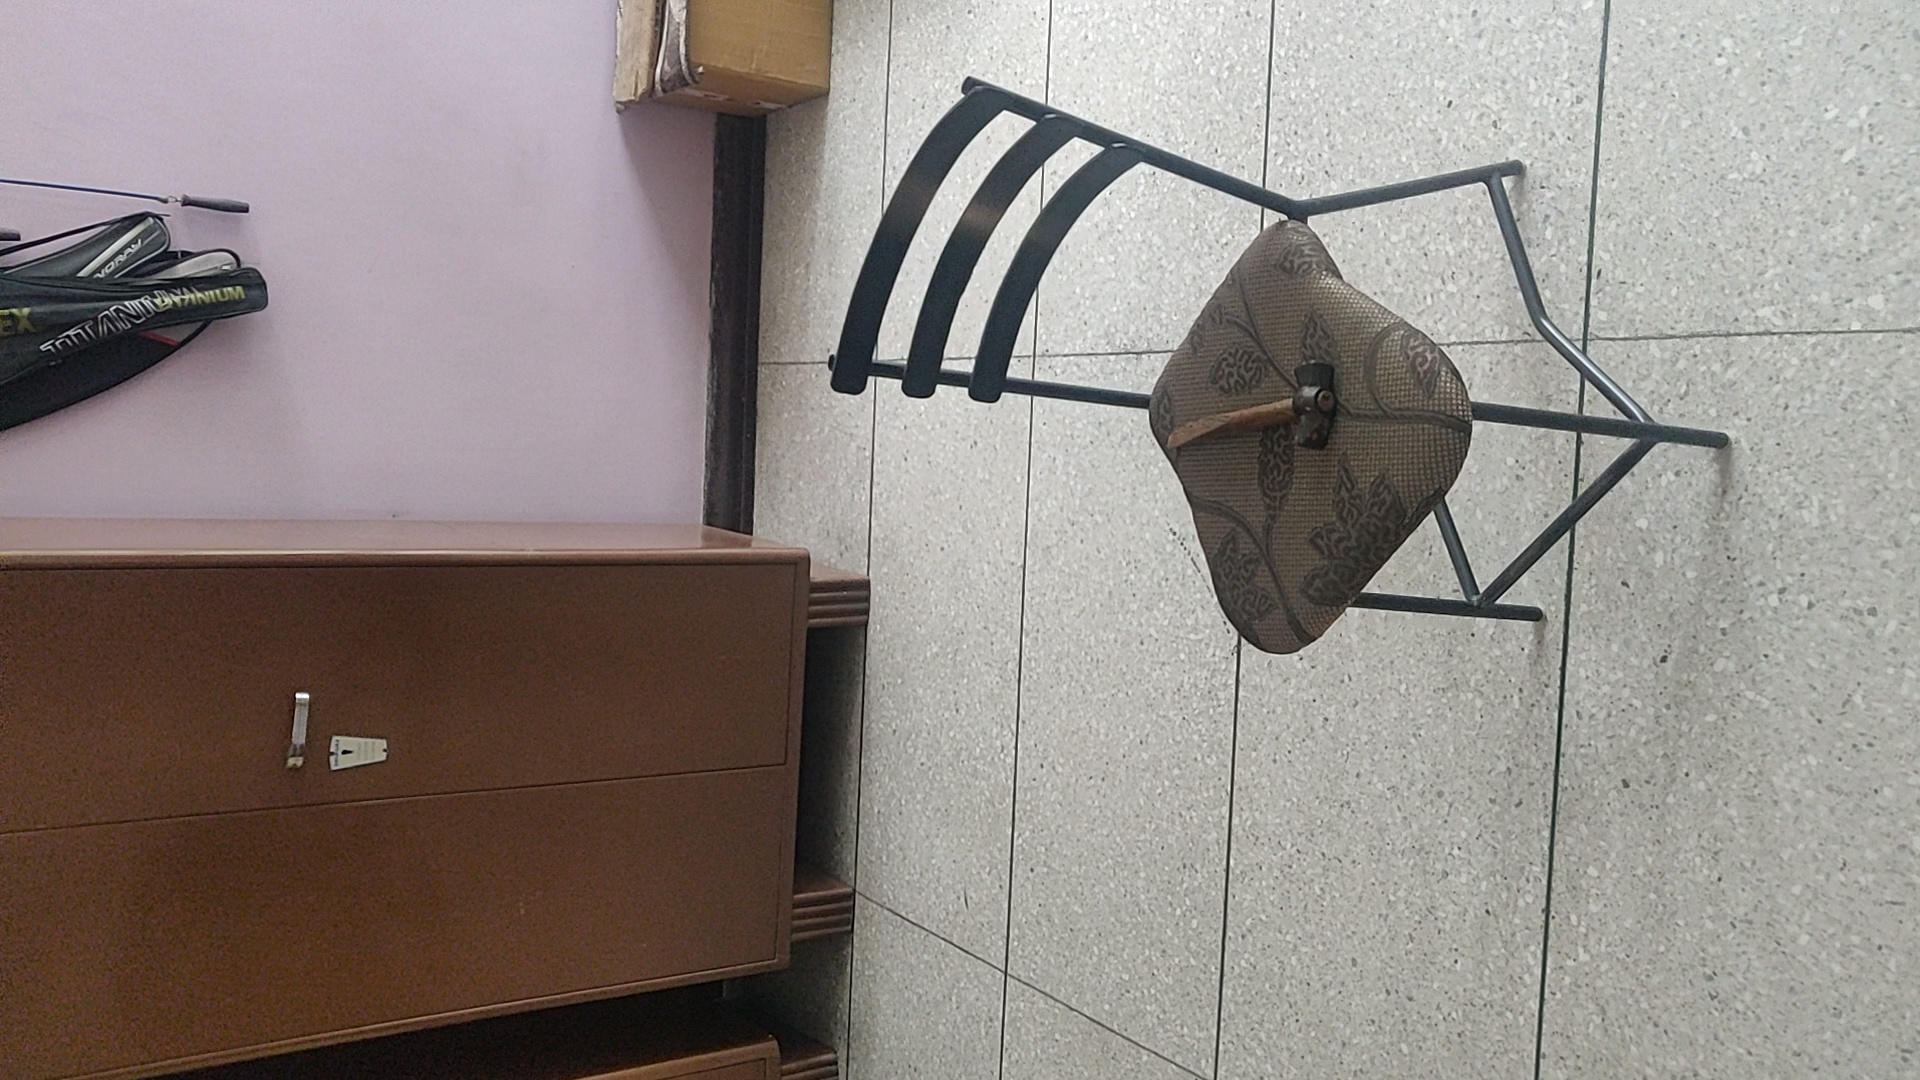hammer: (1164, 352, 1338, 454)
